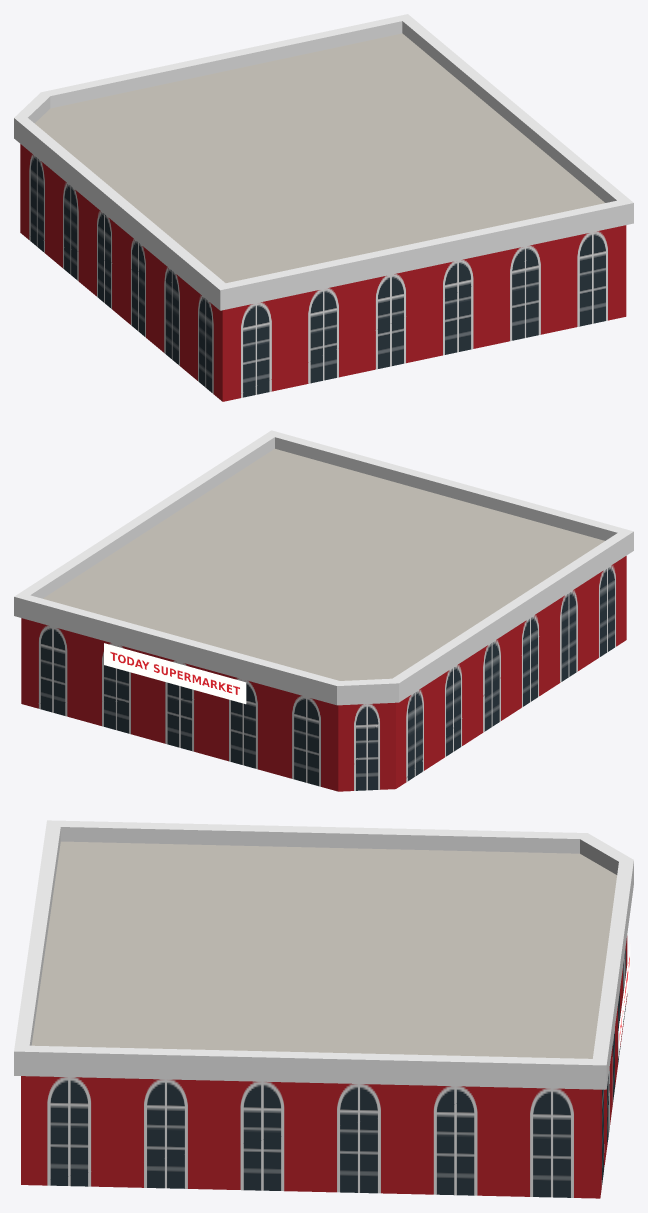
File: todaymkt.glb
The picture shows the model from 3 angles, top to bottom: view 1: azimuth 30°, elevation 25°; view 2: azimuth 150°, elevation 25°; view 3: azimuth 270°, elevation 25°; orthographic projection. The views are drawn at different scales.
Parts seen in each view (by area): view 1: todaymkt_lod0; view 2: todaymkt_lod0; view 3: todaymkt_lod0.
Part boxes in pixels (box(x1,y1,x2,y2)): todaymkt_lod0: box(14, 14, 633, 401); todaymkt_lod0: box(14, 430, 633, 791); todaymkt_lod0: box(14, 820, 633, 1198).
Size of what is drawn, in the model's own units: 21.63 by 5.6 by 23.12.
4 materials, 2 textured.
